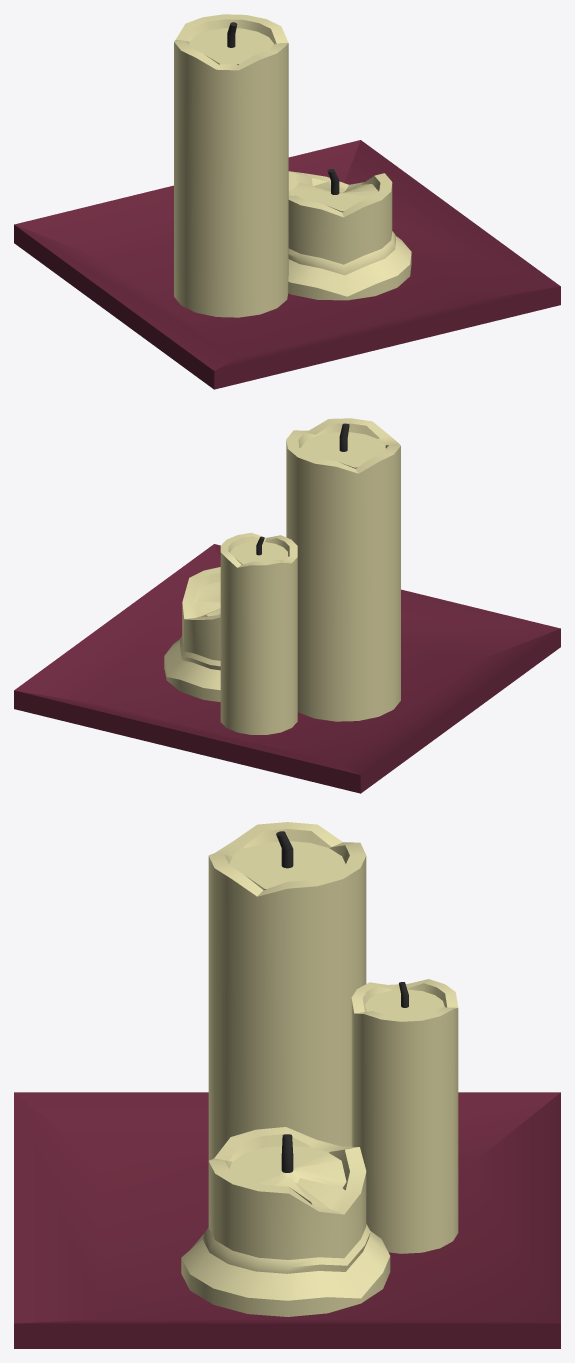
Rendered from candles.fbx.
The picture shows the model from 3 angles, top to bottom: view 1: azimuth 30°, elevation 25°; view 2: azimuth 150°, elevation 25°; view 3: azimuth 270°, elevation 25°; orthographic projection. The views are drawn at different scales.
Parts seen in each view (by area): view 1: Candles; view 2: Candles; view 3: Candles.
Boxes of the visible parts, box(x1,y1,x2,y2) form: Candles: box(14, 14, 560, 389); Candles: box(14, 418, 560, 793); Candles: box(14, 822, 560, 1348).
Bounding box in the file's own units: 27.35 × 27.35 × 21.73.
